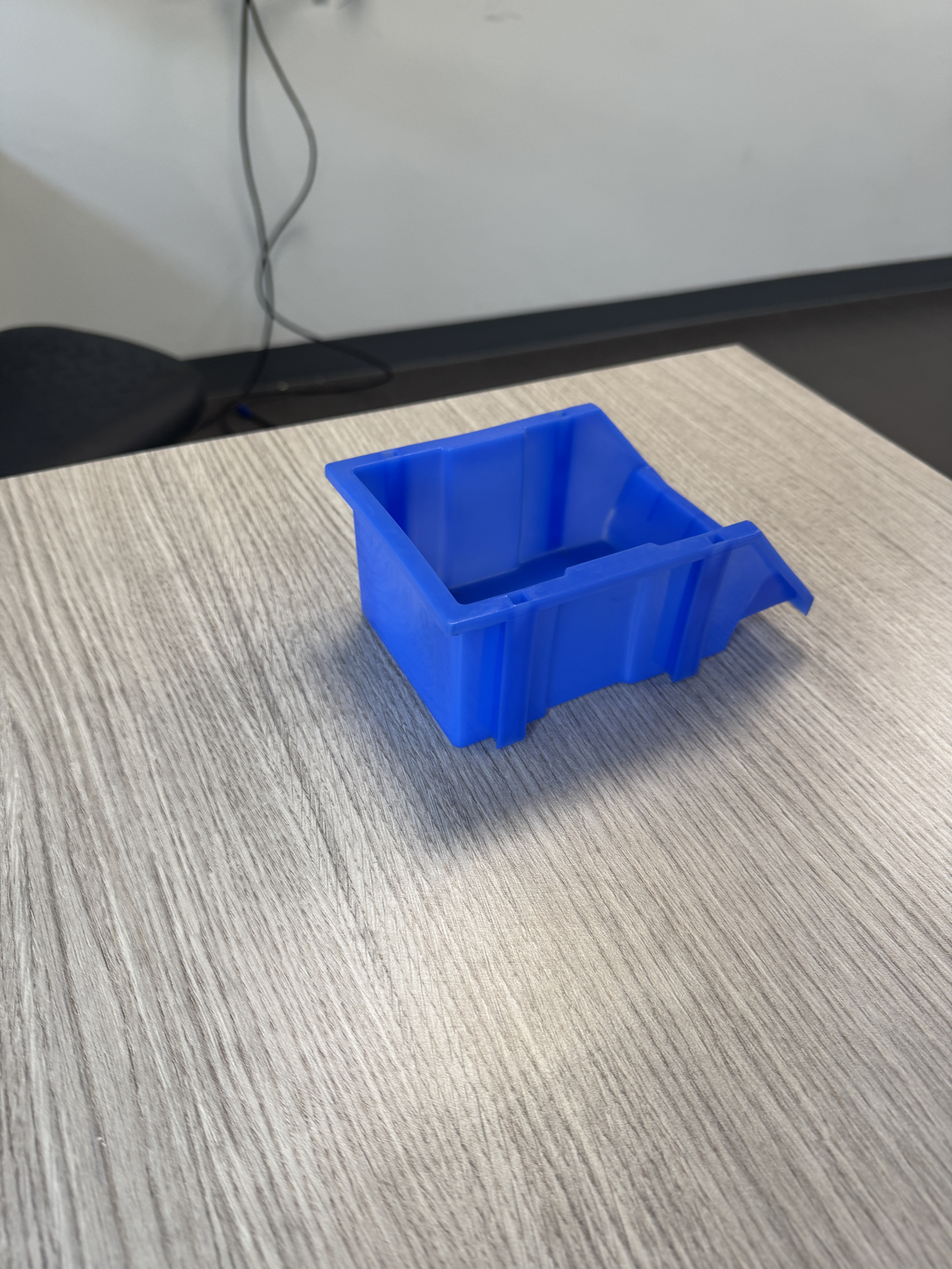Bin Boundary: (353, 392, 725, 621)
